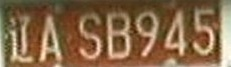A: (39, 16, 63, 67)
